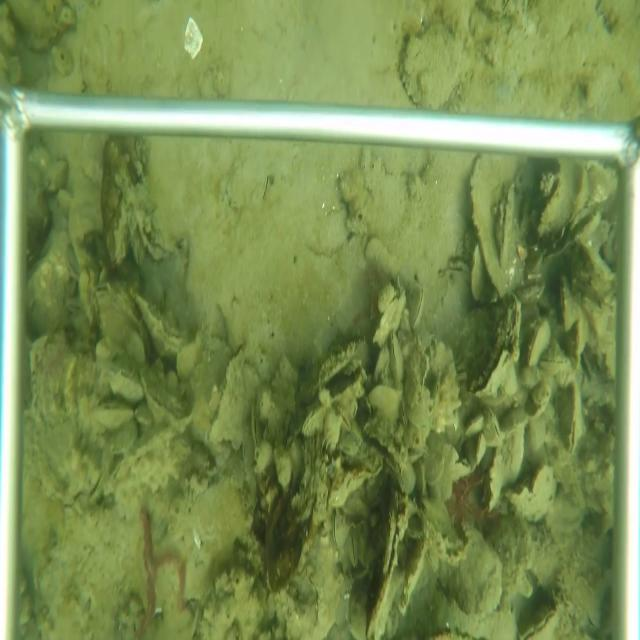Oyster-Closed: (396, 22, 475, 110), (134, 292, 193, 360), (137, 365, 191, 436), (505, 461, 559, 524), (491, 179, 516, 278), (559, 379, 585, 460), (88, 398, 134, 432), (526, 316, 555, 369), (516, 605, 560, 639), (481, 451, 503, 514), (388, 330, 405, 389), (482, 405, 505, 447), (410, 284, 428, 335), (249, 398, 264, 454), (344, 527, 358, 572), (328, 513, 342, 551), (473, 429, 485, 467)
Oyster-Indeterminate: (101, 431, 195, 516), (204, 341, 249, 456), (467, 156, 502, 299)
Oyster-Open: (465, 293, 523, 402), (364, 503, 410, 639), (528, 172, 577, 237)
